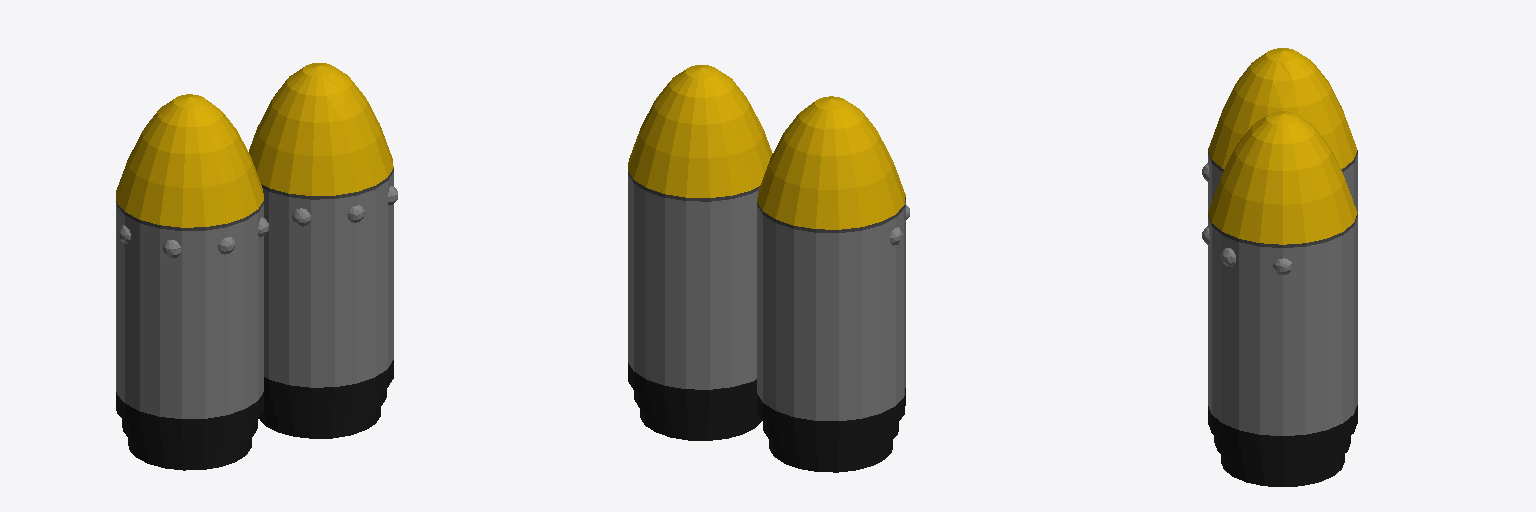
The picture shows the model from 3 angles: view 1: azimuth 30°, elevation 25°; view 2: azimuth 150°, elevation 25°; view 3: azimuth 270°, elevation 25°; orthographic projection.
Visible parts, largest first — view 1: body2, body3, up1, up2, base3, base7, base2, base6, base1, base5; view 2: body2, body3, up1, up2, base3, base7, base2, base6, base1, base5; view 3: body3, up2, up1, base7, base6, base5, body2.
Part boxes in pixels (x1,y1,x2,y2): body2: (116,204,263,418); body3: (263,172,393,387); up1: (116,94,263,227); up2: (249,63,393,195); base3: (116,392,263,437); base7: (264,360,393,406); base2: (122,420,257,453); base6: (264,389,386,422); base1: (128,438,251,470); base5: (259,407,380,438); body2: (757,200,905,420); body3: (628,175,758,389); up1: (757,96,905,229); up2: (628,65,772,197); base3: (757,388,905,439); base7: (628,363,756,408); base2: (763,422,898,455); base6: (634,391,756,424); base1: (769,440,892,472); base5: (640,409,761,440); body3: (1208,217,1357,435); up2: (1208,111,1357,244); up1: (1208,48,1356,168); base7: (1208,405,1357,454); base6: (1214,436,1350,470); base5: (1221,454,1344,486); body2: (1208,154,1357,212).
Bounding box in the file's own units: 0.7476 × 0.923 × 0.3741.
4 materials, 4 textured.